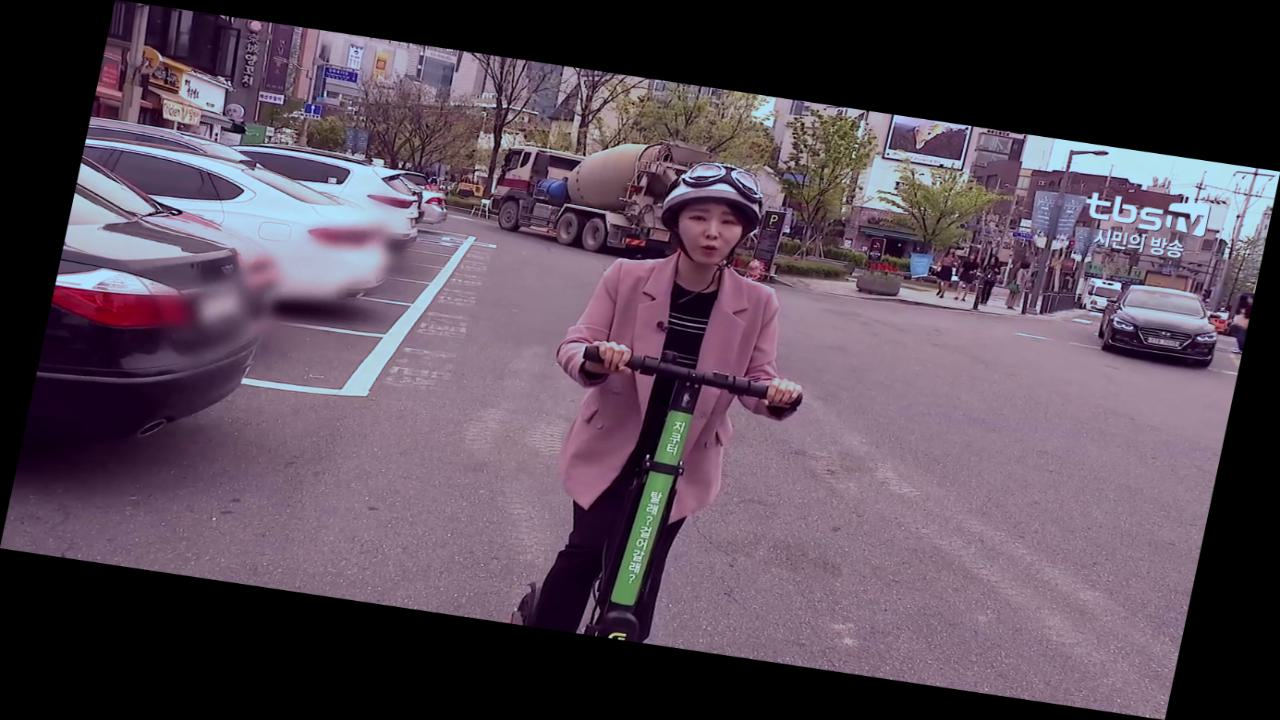helmet: (499, 144, 853, 659)
